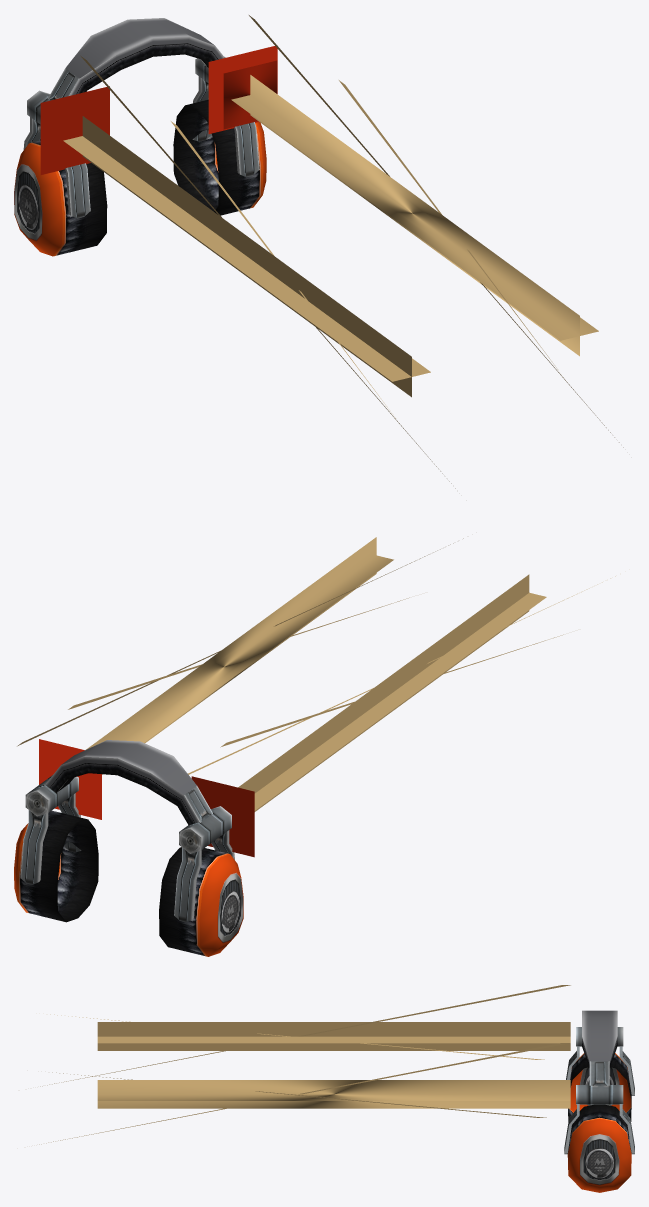
Rendered from hat09_headphones.FBX.
3 renders of one model, top to bottom at view 1: azimuth 30°, elevation 25°; view 2: azimuth 150°, elevation 25°; view 3: azimuth 270°, elevation 25°, orthographic. The views are drawn at different scales.
Parts seen in each view (by area): view 1: hat_09_headphones; view 2: hat_09_headphones; view 3: hat_09_headphones.
Boxes of the visible parts, x1,y1,x2,y2 form: hat_09_headphones: (14,15,623,488); hat_09_headphones: (14,537,615,956); hat_09_headphones: (39,985,634,1192).
Bounding box in the file's own units: 33.76 × 21.64 × 83.59.
